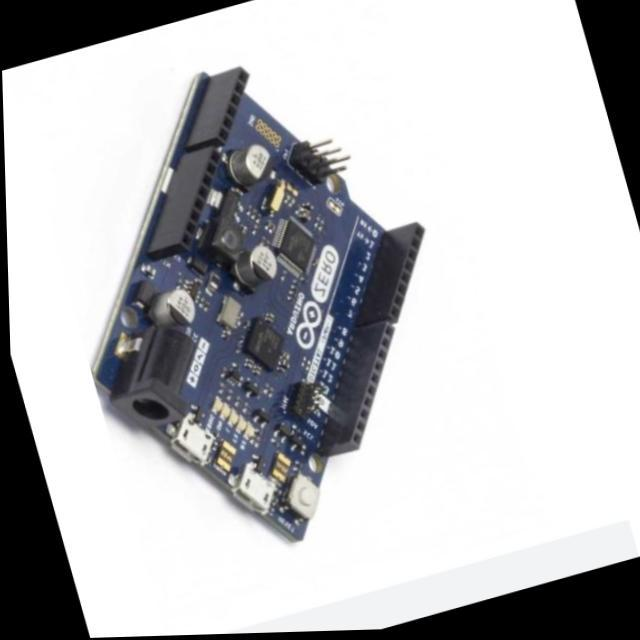Arduino-Zero: (94, 69, 424, 542)
